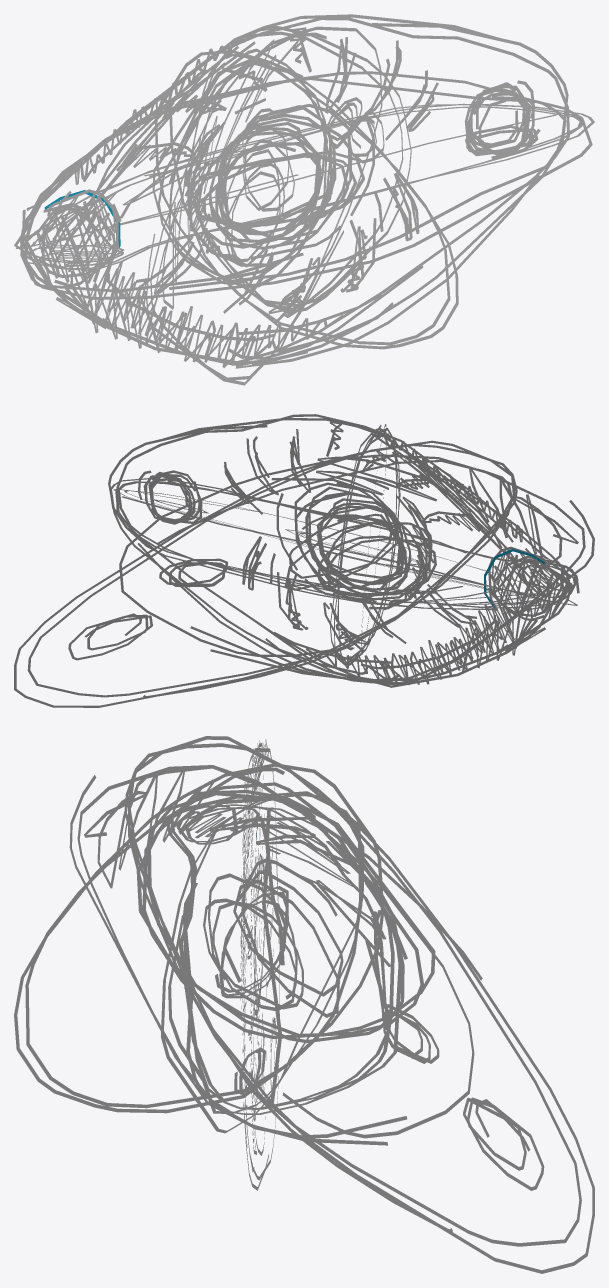
The picture shows the model from 3 angles, top to bottom: view 1: azimuth 30°, elevation 25°; view 2: azimuth 150°, elevation 25°; view 3: azimuth 270°, elevation 25°; orthographic projection. The views are drawn at different scales.
Parts seen in each view (by area): view 1: stroke44, stroke56, stroke50, stroke57, stroke47, stroke, stroke81, stroke29, stroke60, stroke55, stroke71, stroke45 (+28 smaller); view 2: stroke47, stroke57, stroke51, stroke55, stroke, stroke29, stroke60, stroke50, stroke34, stroke48, stroke81, stroke53 (+28 smaller); view 3: stroke47, stroke50, stroke56, stroke51, stroke44, stroke55, stroke48, stroke53, stroke34, stroke42, stroke43, stroke49 (+8 smaller).
Boxes of the visible parts, x1,y1,x2,y2 form: stroke44: (20,71,592,299); stroke56: (154,50,458,349); stroke50: (152,48,330,287); stroke57: (20,14,568,365); stroke47: (190,25,411,313); stroke: (22,17,569,362); stroke81: (20,195,121,284); stroke29: (87,262,343,362); stroke60: (197,127,321,248); stroke55: (154,39,298,309); stroke71: (94,245,393,367); stroke45: (192,151,364,228); stroke47: (14,440,517,707); stroke57: (108,418,571,683); stroke51: (119,454,585,681); stroke55: (271,456,578,567); stroke: (116,414,563,687); stroke29: (305,604,514,684); stroke60: (317,502,422,593); stroke50: (330,425,400,665); stroke34: (115,481,579,610); stroke48: (285,506,397,590); stroke81: (488,550,572,620); stroke53: (318,522,436,600); stroke47: (124,736,594,1273); stroke50: (136,782,435,1043); stroke56: (14,763,383,1113); stroke51: (77,765,474,1138); stroke44: (161,791,364,1133); stroke55: (84,771,352,888); stroke48: (233,858,343,1017); stroke53: (203,873,303,1010); stroke34: (170,803,394,1109); stroke42: (166,804,390,1109); stroke43: (182,883,401,1114); stroke49: (463,1097,544,1190).
Size of the model in its own units: 81.21 by 45.23 by 62.98.
